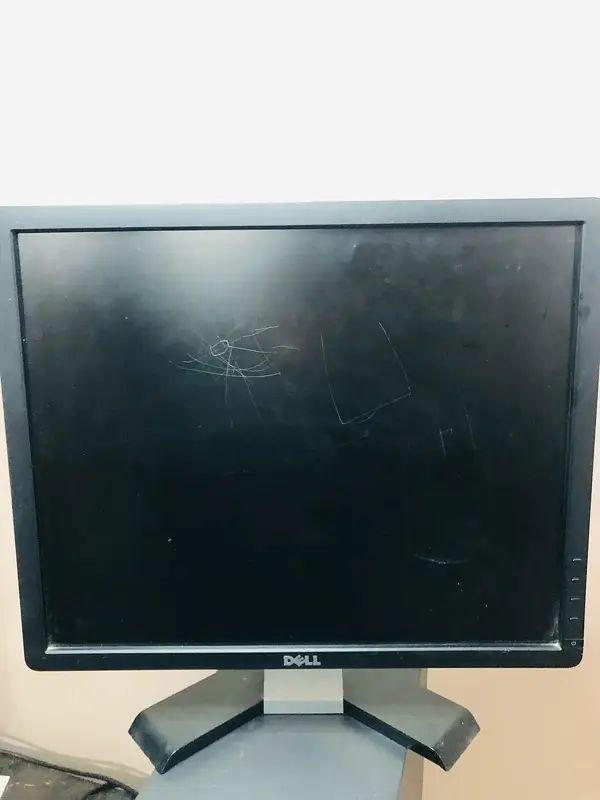electronic: (0, 180, 600, 776)
